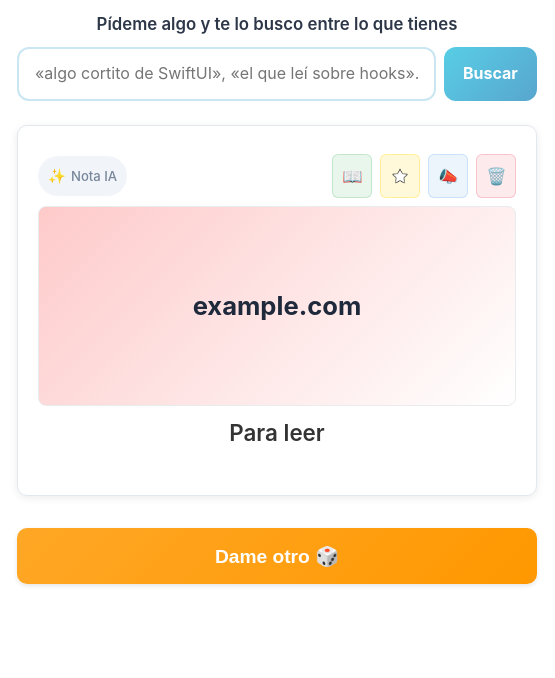
Scenario: asks whether the article was read after coming back from it
Expected: the text "¿Lo has leído?" is not shown
Click the link with aria-label "Leer: Para leer" at (277, 327), box [38,206,516,447]
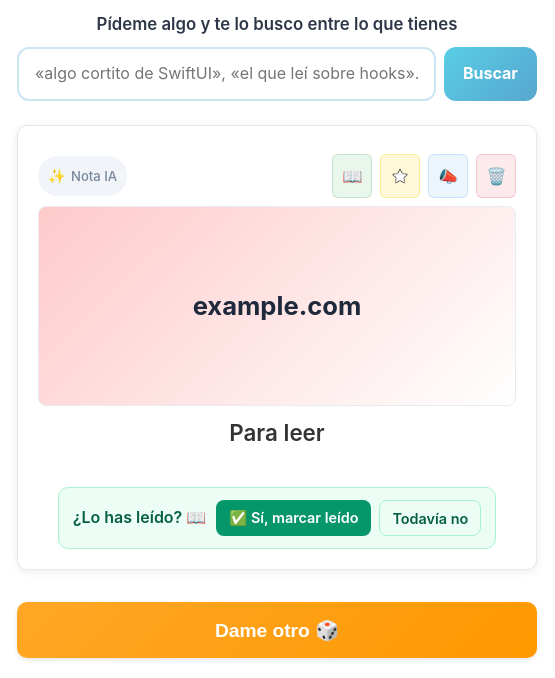
Click the button "✅ Sí, marcar leído" at (294, 518), box [216,500,372,536]
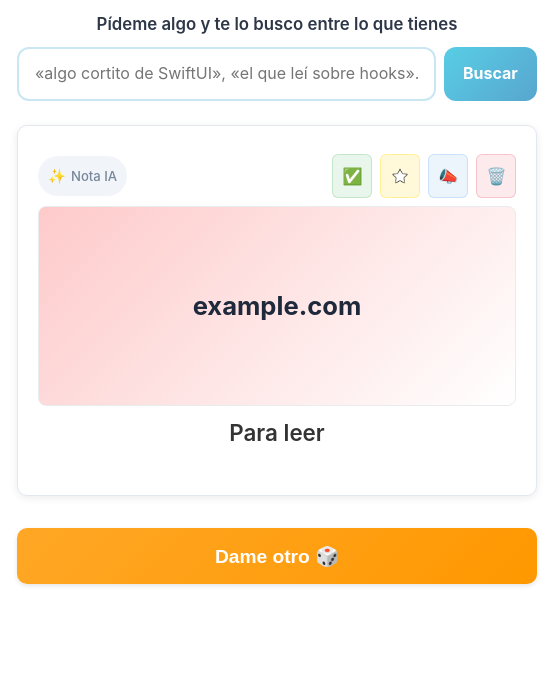
Now the text "¿Lo has leído?" is gone
